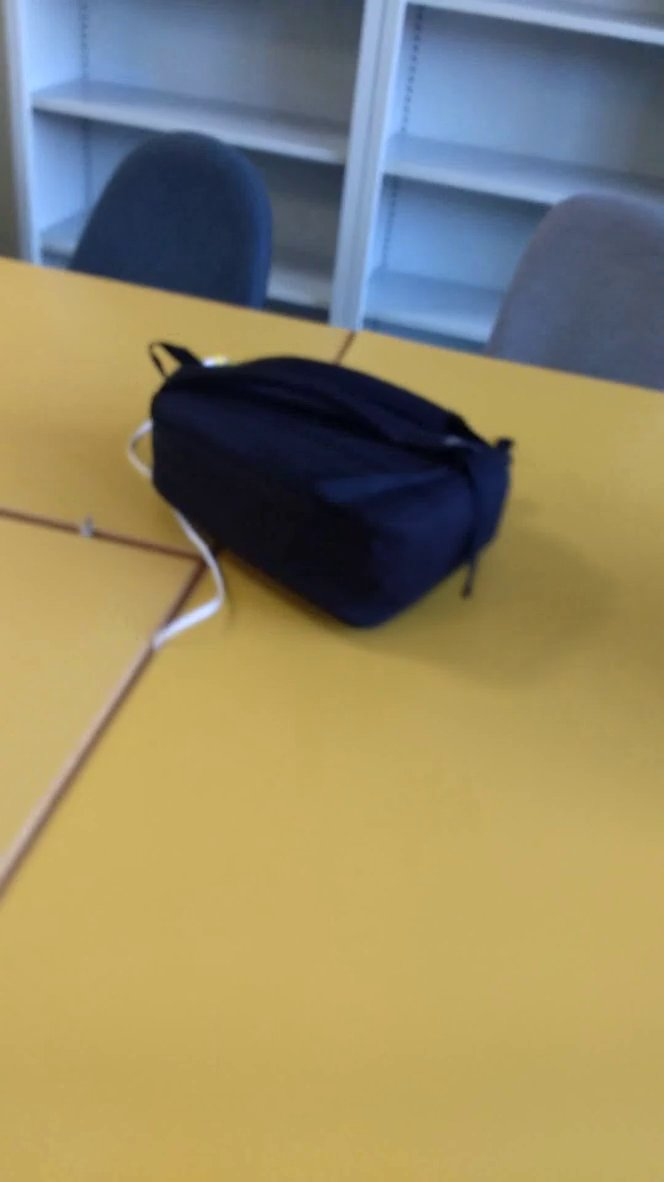bag: (121, 331, 553, 656)
chair: (57, 120, 284, 345), (477, 168, 664, 431)
